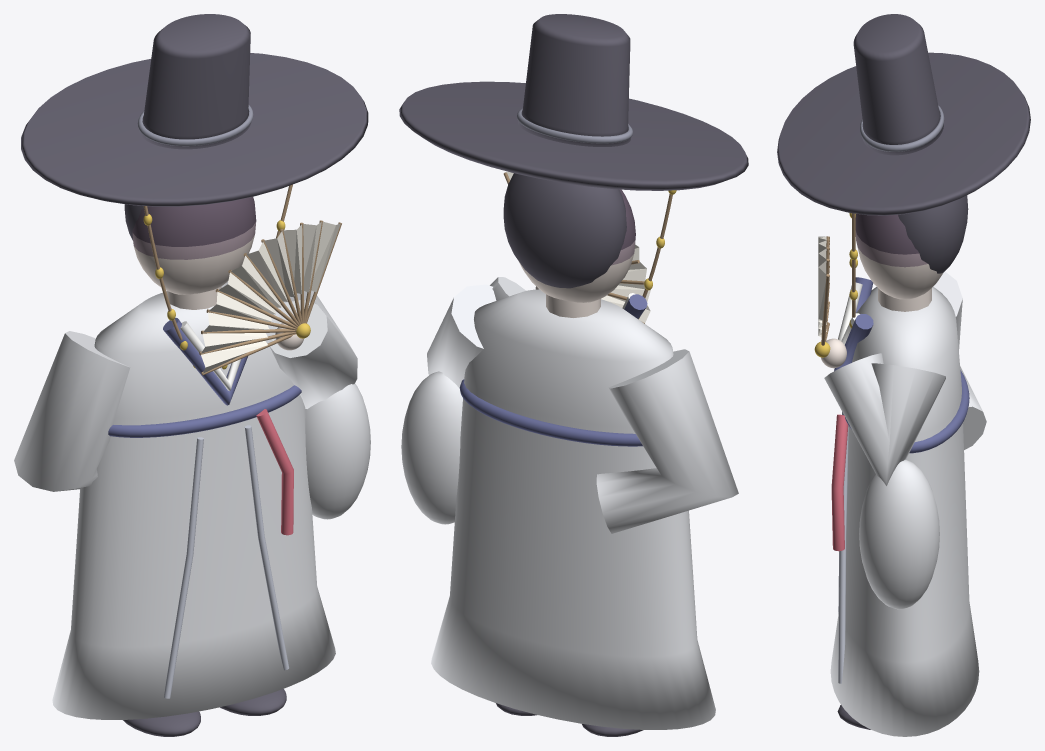
Rendered from conch_jeonwoochi_a_behind_1_-1.glb.
3 renders of one model, left to right at view 1: azimuth 30°, elevation 25°; view 2: azimuth 150°, elevation 25°; view 3: azimuth 270°, elevation 25°, orthographic. The views are drawn at different scales.
Size of the model in its own units: 28.25 by 55.23 by 18.85.
